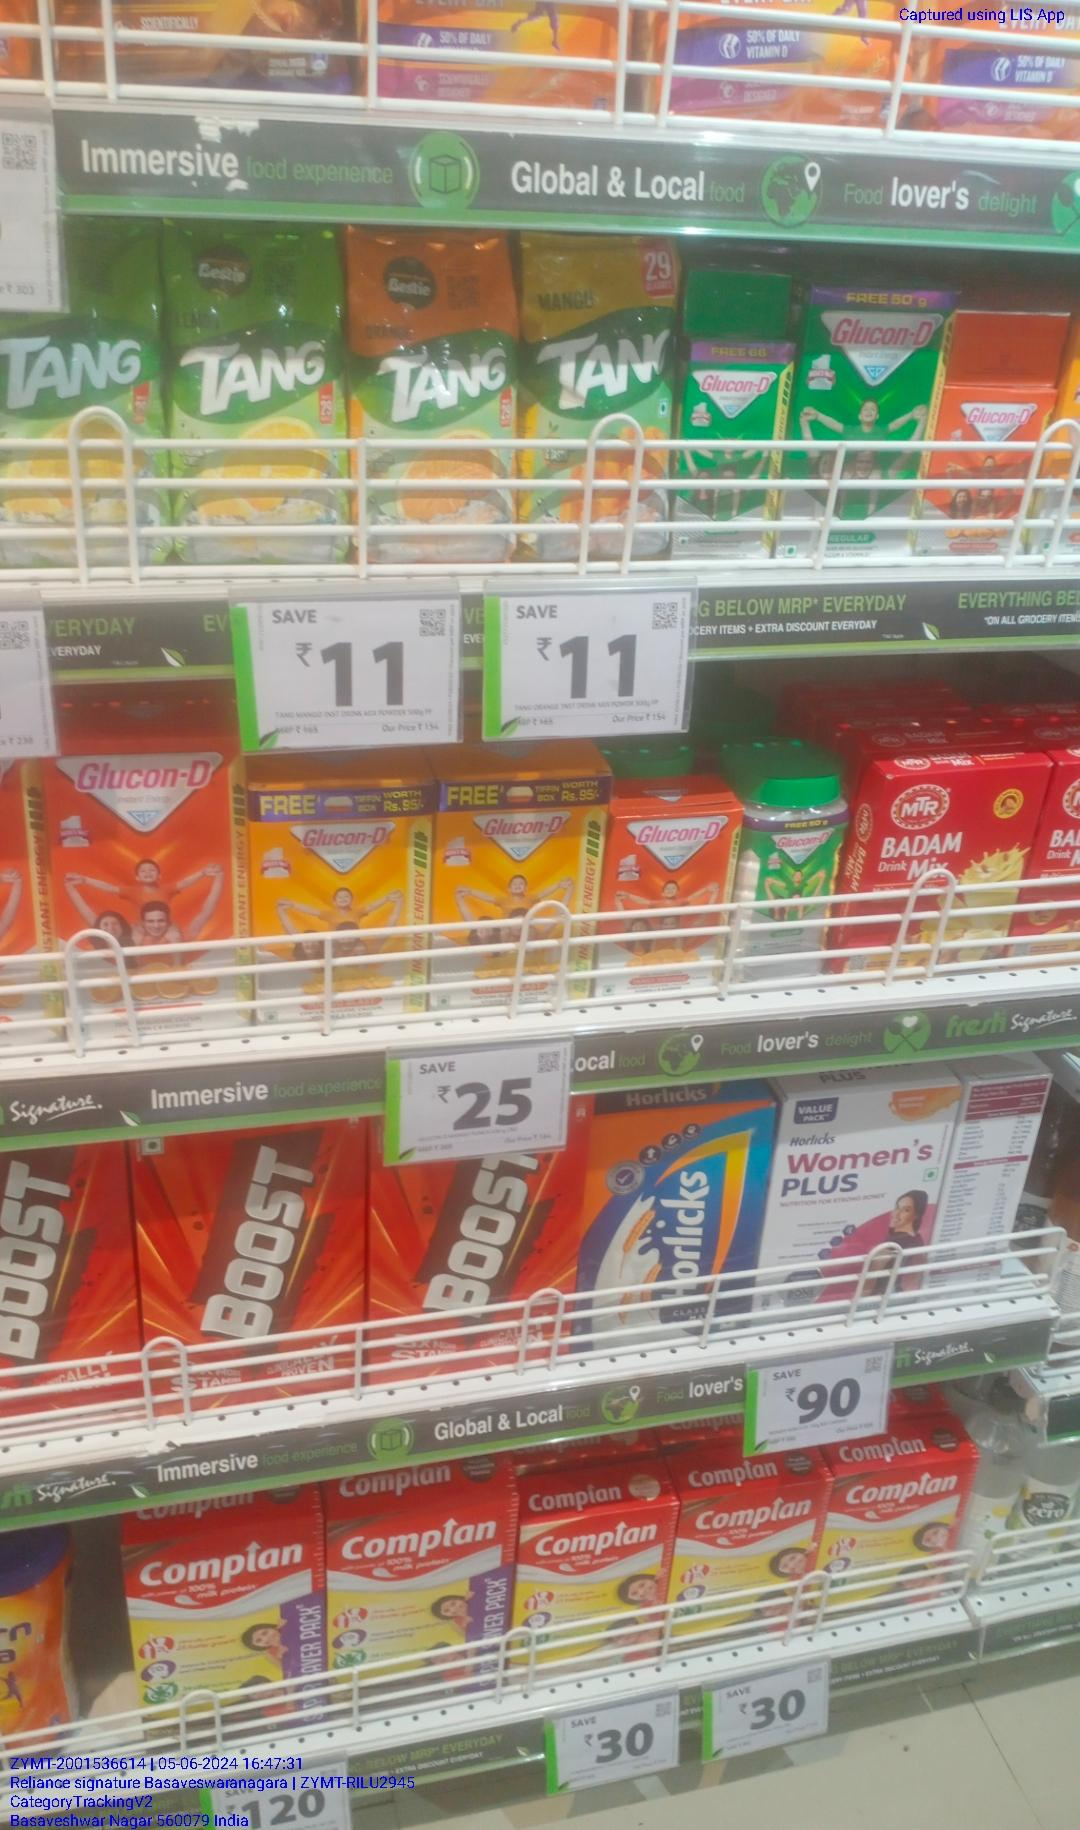HORLICK_CLASSIC_MALT_500_G_PACK: (585, 1109, 765, 1346)
